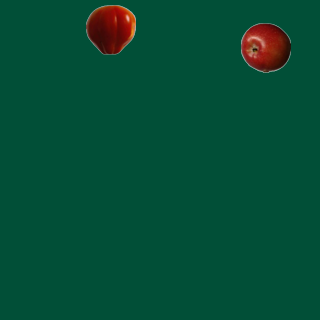Apple Braeburn: (240, 22, 290, 72)
Tomato 1: (85, 4, 135, 54)
